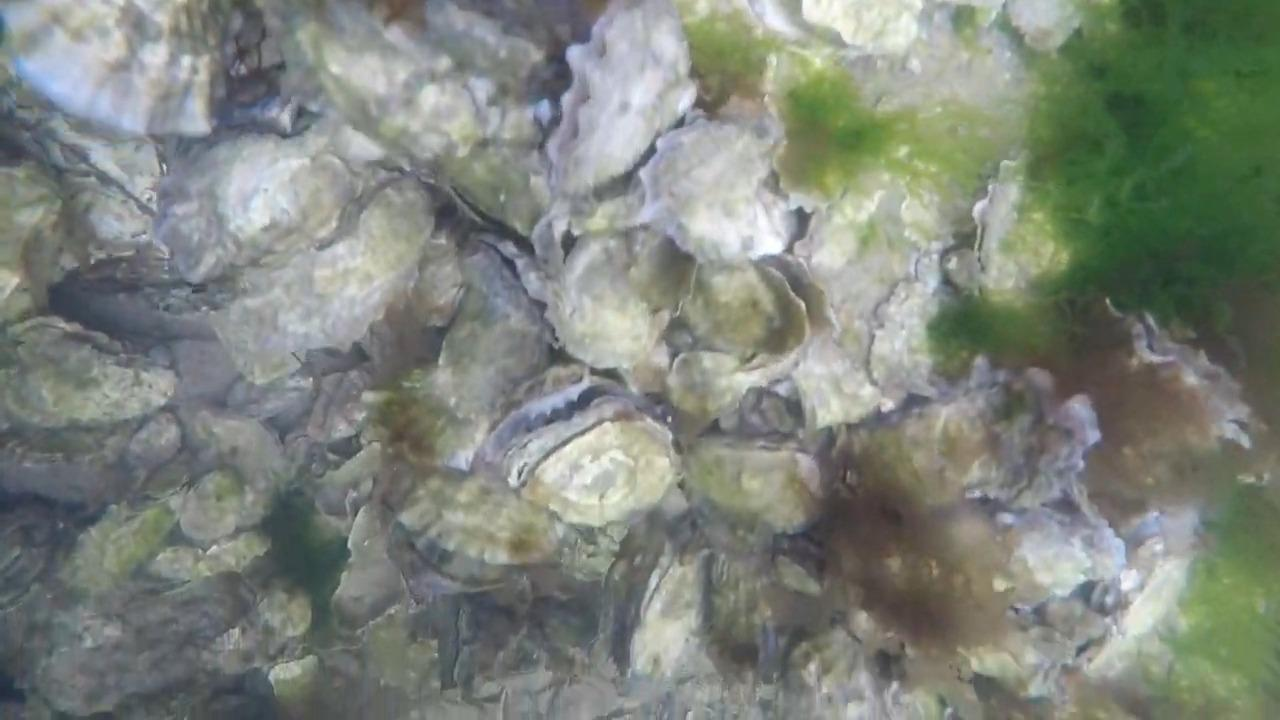Oyster: (524, 11, 826, 410), (289, 4, 547, 181), (1056, 310, 1261, 525), (19, 551, 255, 718), (215, 213, 425, 384), (153, 129, 356, 290), (7, 1, 236, 140), (862, 369, 1069, 521), (539, 1, 693, 204), (158, 139, 363, 285), (545, 2, 698, 188), (850, 496, 1029, 649), (419, 242, 553, 431), (639, 119, 806, 255), (0, 317, 177, 440), (643, 121, 792, 261), (808, 177, 944, 321), (388, 466, 560, 577), (1078, 552, 1208, 697), (547, 235, 675, 380), (667, 248, 808, 378), (520, 420, 679, 528), (678, 430, 824, 540), (165, 410, 291, 534), (856, 259, 959, 409), (989, 505, 1119, 610), (324, 178, 433, 298), (41, 166, 163, 273), (64, 496, 185, 598), (623, 551, 711, 687), (779, 327, 887, 435), (327, 499, 413, 627), (1, 436, 137, 512), (0, 159, 69, 298), (1024, 388, 1106, 499), (964, 155, 1033, 285), (664, 343, 772, 424), (796, 1, 937, 58), (356, 620, 443, 703), (175, 524, 281, 590), (163, 330, 251, 408), (405, 237, 472, 329), (246, 581, 316, 654), (1002, 1, 1091, 54), (123, 409, 188, 481), (746, 1, 837, 47), (146, 541, 226, 592)
